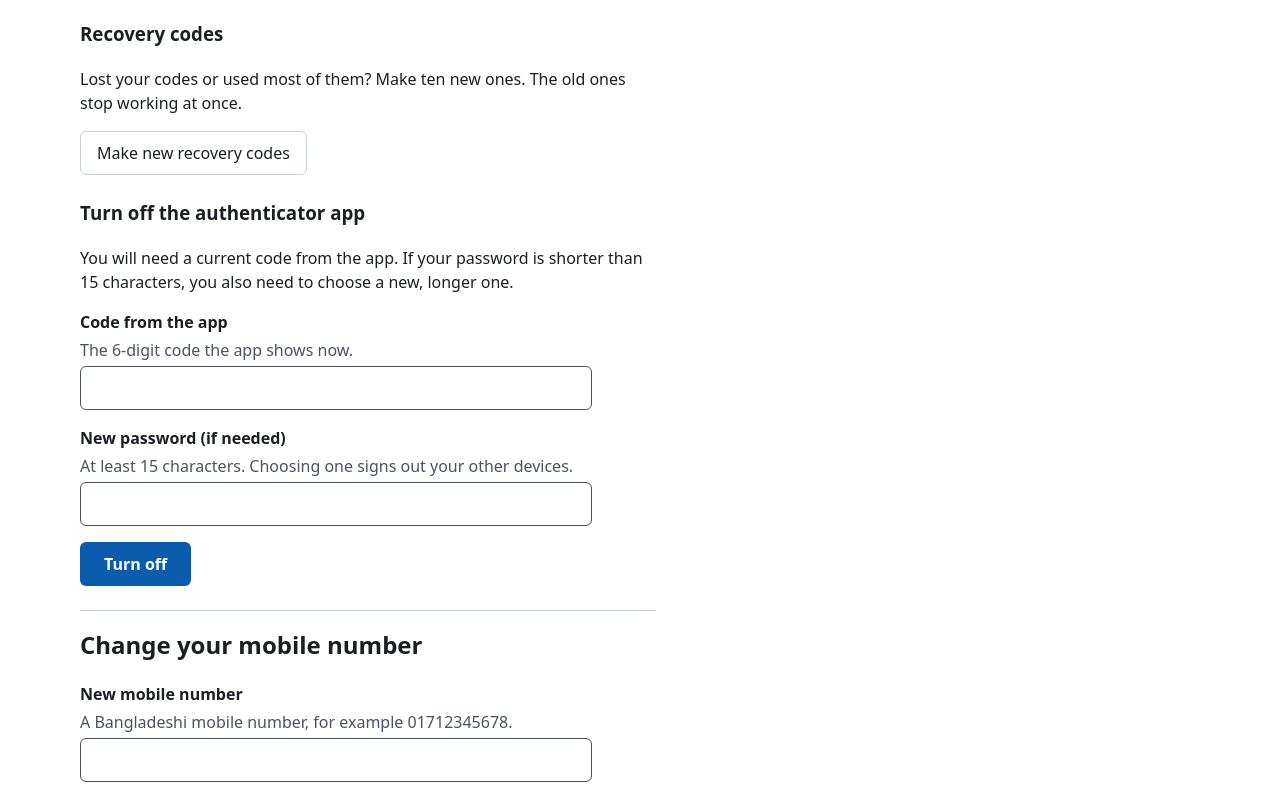
it: with the authenticator app on › SEC-AUTH-01 turning it off takes a current app code only: a wrong one is explained on the field
(page scrolled)
Expected: the heading "Turn off the authenticator app" is shown, [80,200,365,225]
Step 1. Type "999999" into the field labelled "Code from the app" → coordinates (336, 388), box [80,366,592,410]
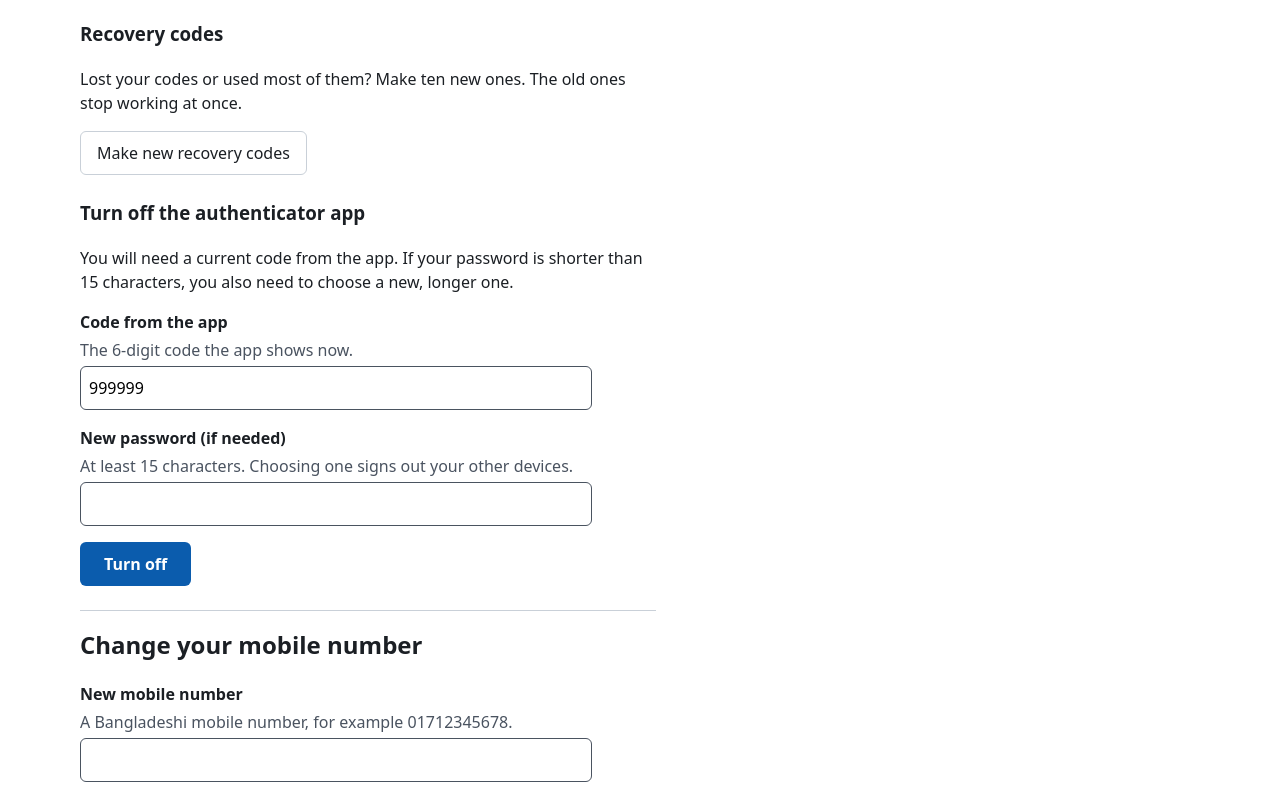
Step 2. Click the button "Turn off" → coordinates (136, 564), box [80,542,191,586]
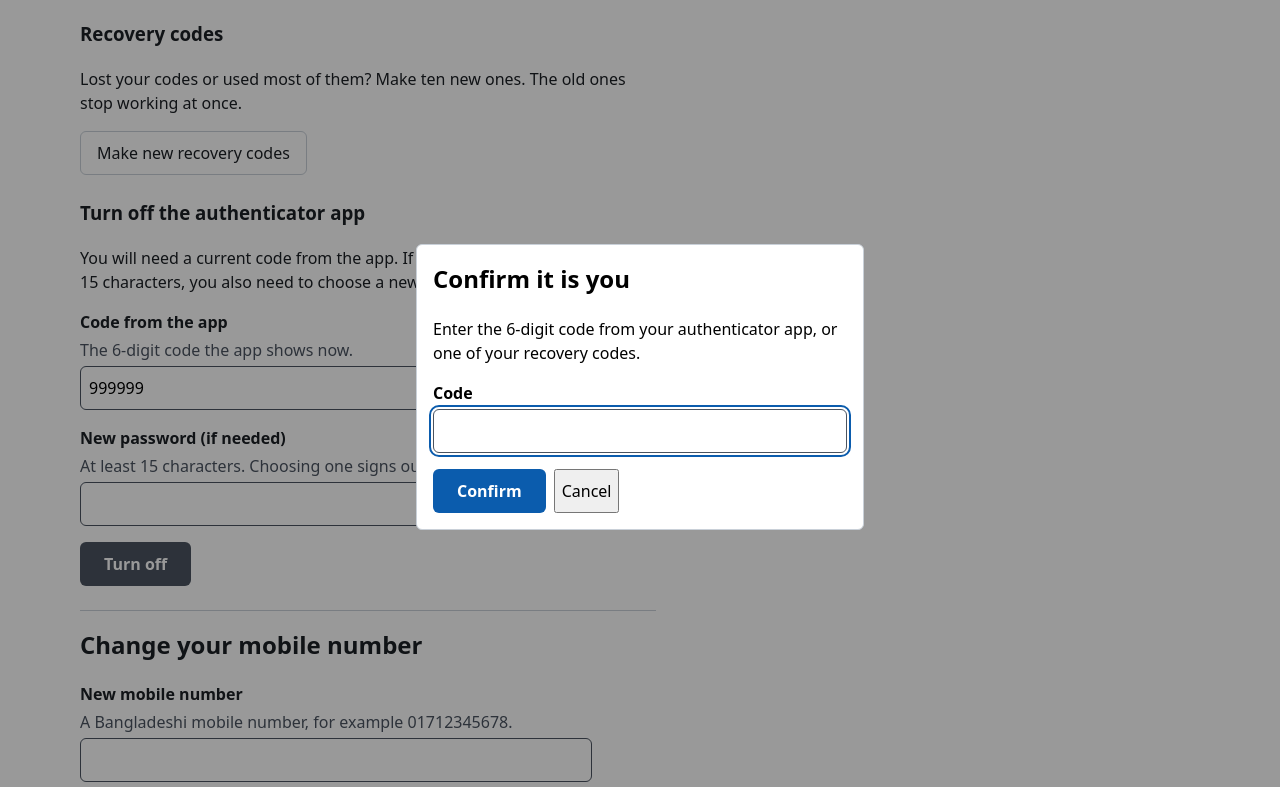
Expected: the text "authenticator app" is shown, [433,318,838,364]
Step 3. Type "123456" into the field labelled "Code" → coordinates (640, 431), box [433,409,847,453]
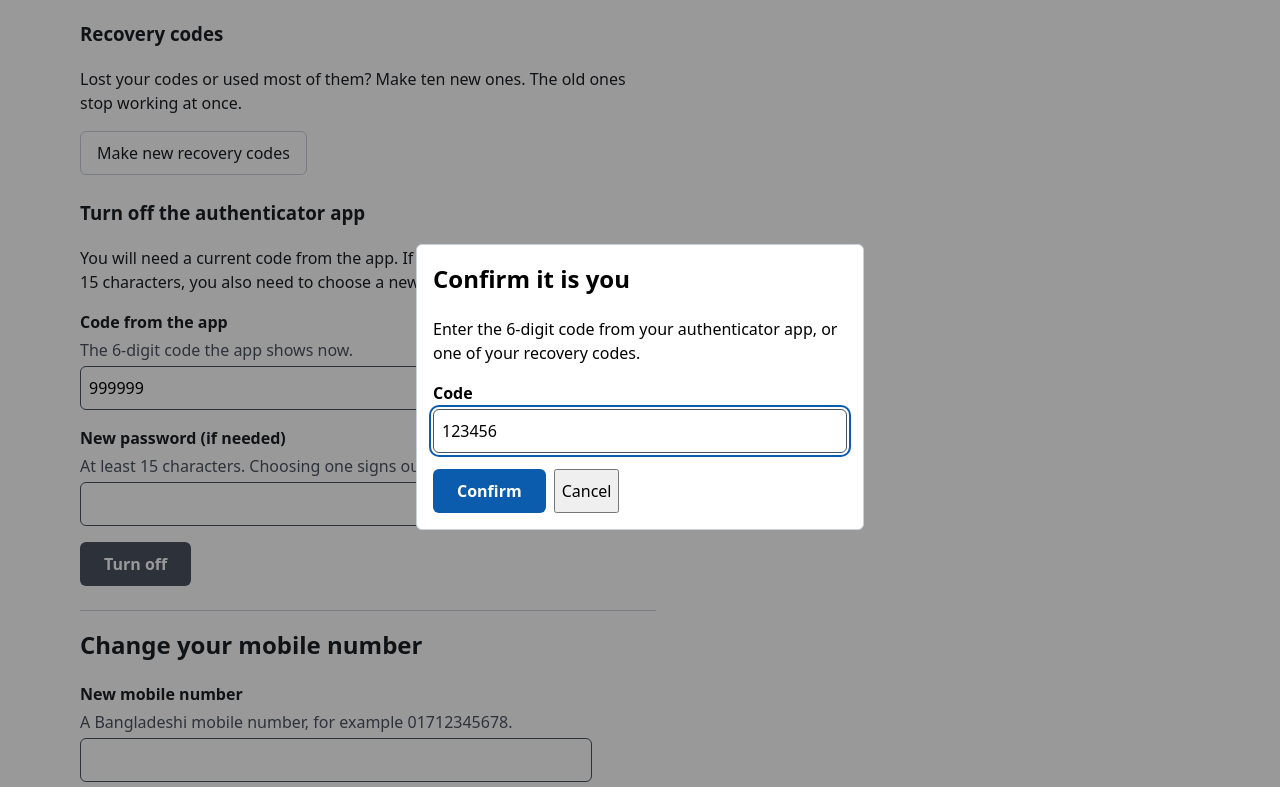
Step 4. Click the button "Confirm" → coordinates (489, 491), box [433,469,546,513]
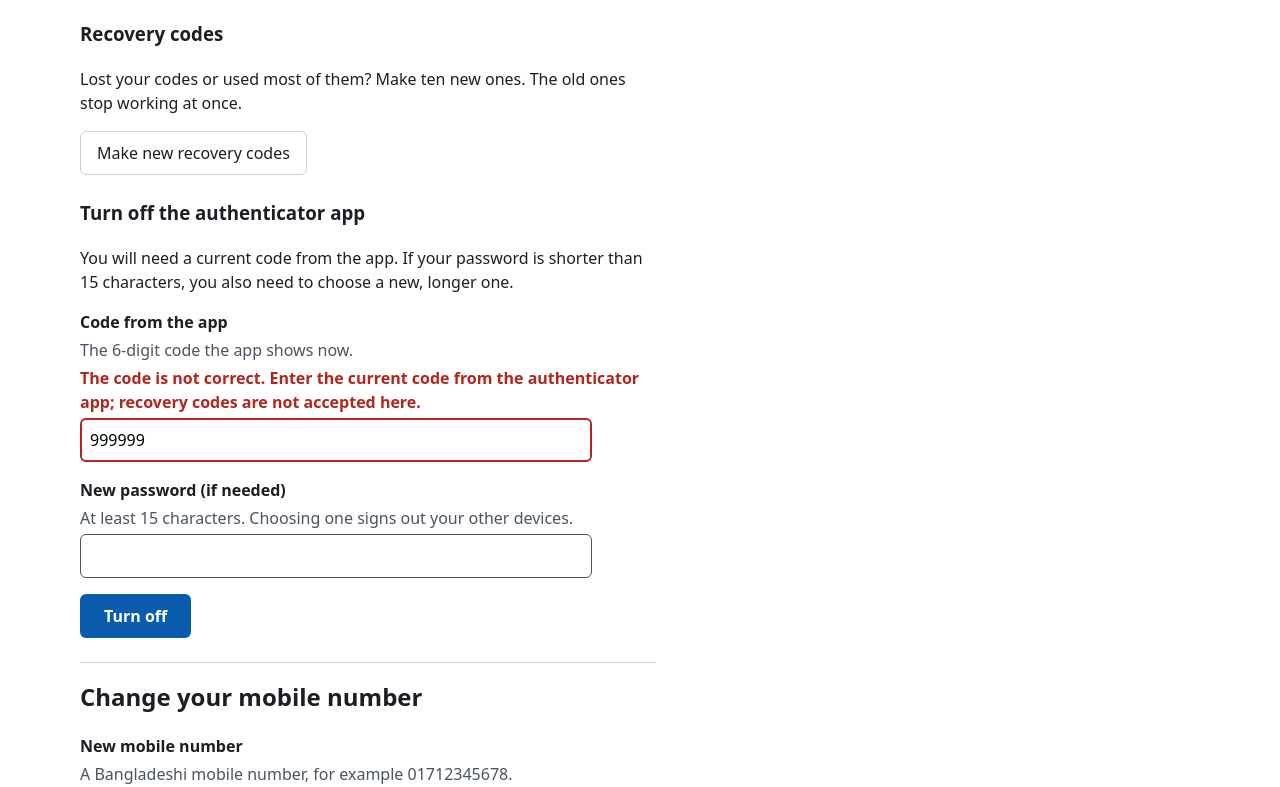
Expected: the dialog is gone
Expected: the text "recovery codes are not accepted here" is shown, [80,367,639,413]
